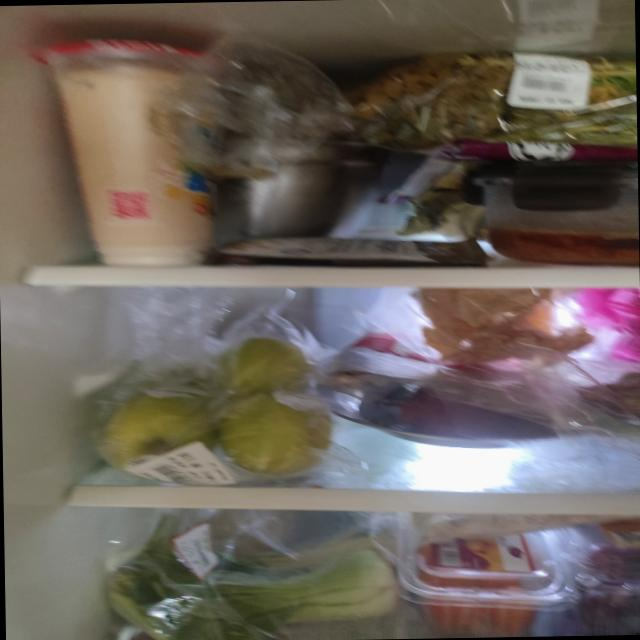apple: (94, 334, 334, 481)
pakchoy: (109, 534, 398, 640)
